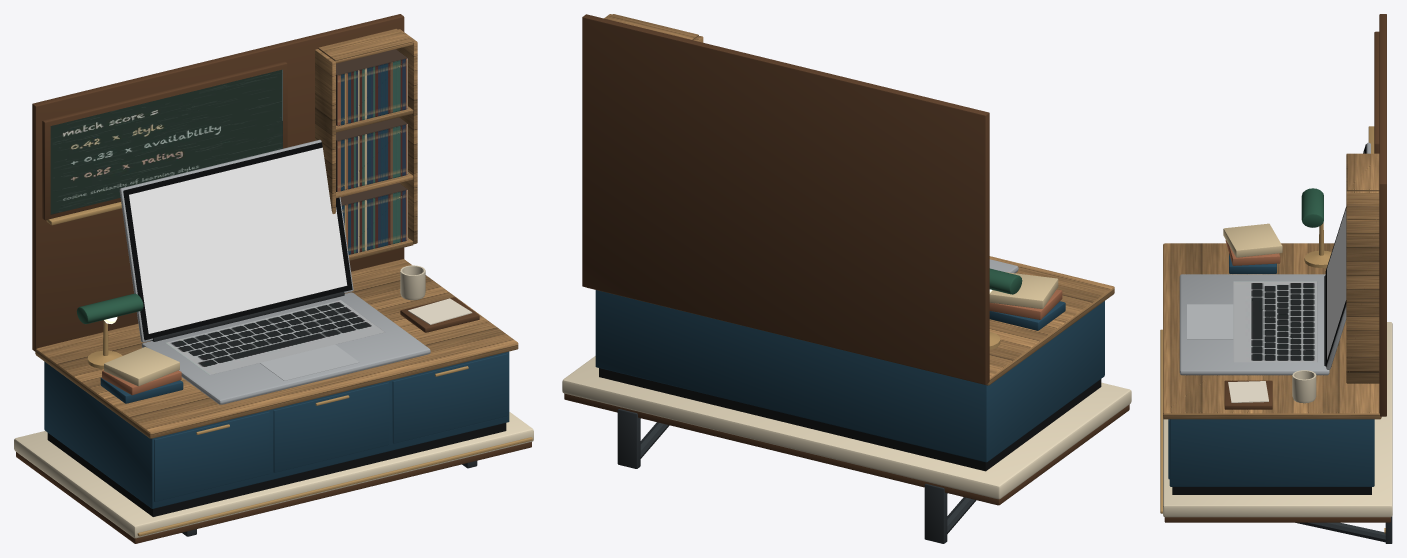
File: set-tutortime.glb
3 renders of one model, left to right at view 1: azimuth 30°, elevation 25°; view 2: azimuth 150°, elevation 25°; view 3: azimuth 270°, elevation 25°, orthographic. The views are drawn at different scales.
Visible parts, largest first — view 1: set__code_prints, set__study_blue, set__wood_dark, mover_screen, set__wood, set__cream, set__laptop_alu, set__rubber_black, set__bezel, set__brass, set__bookbody, set__track (+7 smaller); view 2: set__wood_dark, set__study_blue, set__cream, set__wood, set__rubber_black, set__steel_dark, set__bk2, set__bk0, set__bk1; view 3: set__wood, set__study_blue, set__cream, set__code_prints, set__laptop_alu, set__wood_dark, mover_screen, set__track, set__rubber_black, set__bk2, set__brass, set__steel_dark (+6 smaller).
Part boxes in pixels (x1,y1,x2,y2): set__code_prints: (50,58,407,374); set__study_blue: (44,351,509,508); set__wood_dark: (16,14,531,543); mover_screen: (129,147,347,333); set__wood: (35,28,518,438); set__cream: (14,412,533,538); set__laptop_alu: (119,139,430,404); set__rubber_black: (47,423,506,516); set__bezel: (123,142,352,340); set__brass: (46,202,532,536); set__bookbody: (336,49,407,205); set__track: (260,344,359,380); set__wood_dark: (564,14,1129,505); set__study_blue: (595,290,1104,462); set__cream: (562,356,1131,499); set__wood: (587,14,1114,385); set__rubber_black: (599,368,1101,471); set__steel_dark: (617,409,976,543); set__bk2: (989,272,1058,308); set__bk0: (989,301,1065,330); set__bk1: (989,289,1062,319); set__wood: (1163,153,1381,419); set__study_blue: (1168,419,1374,486); set__cream: (1163,322,1392,517); set__code_prints: (1233,281,1317,362); set__laptop_alu: (1179,142,1370,375); set__wood_dark: (1164,14,1390,522); mover_screen: (1327,151,1364,359); set__track: (1187,304,1233,339); set__rubber_black: (1172,487,1371,494); set__bk2: (1223,223,1282,257); set__brass: (1160,126,1385,533); set__steel_dark: (1295,516,1392,543).
Size of the model in its own units: 5.1 by 4.88 by 2.71.
21 materials, 2 textured.
